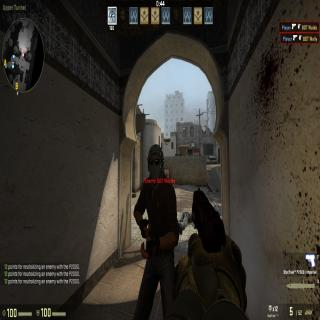T-Body: (135, 142, 175, 320)
T-Head: (144, 140, 167, 186)
